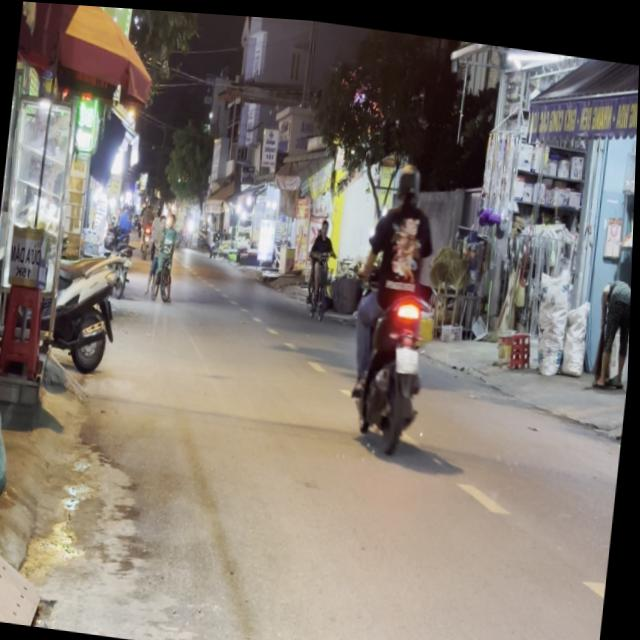helmet: (396, 153, 425, 200)
licenseplate: (343, 146, 449, 452)
nohelmet: (396, 338, 422, 367)
